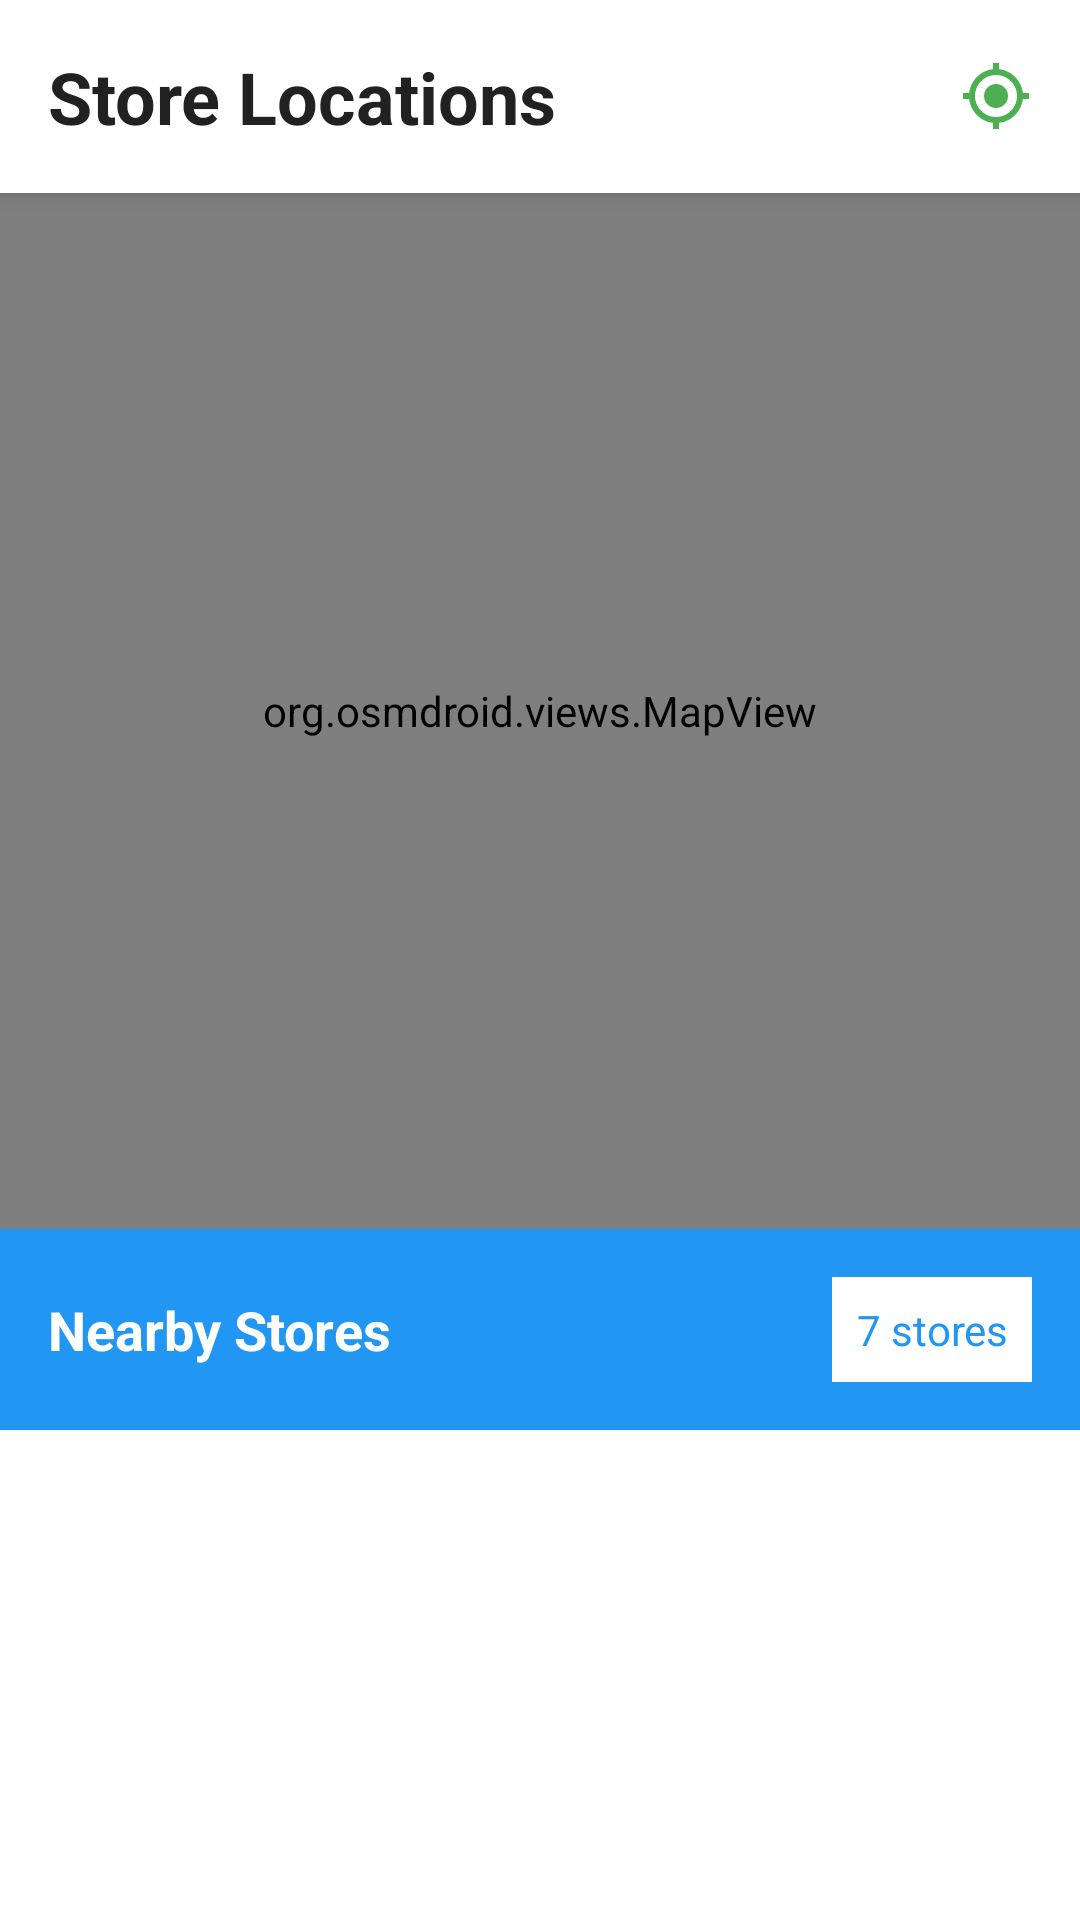

Icon click points for this 1080*1920 phone screenshot, format (x,y):
My location: (996,96)
